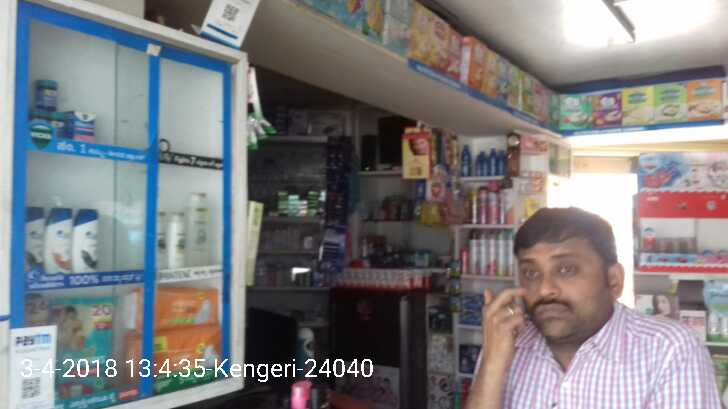vicks: (32, 77, 97, 142)
